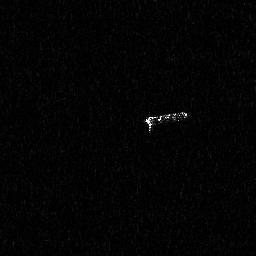ship: (143, 109, 191, 138)
